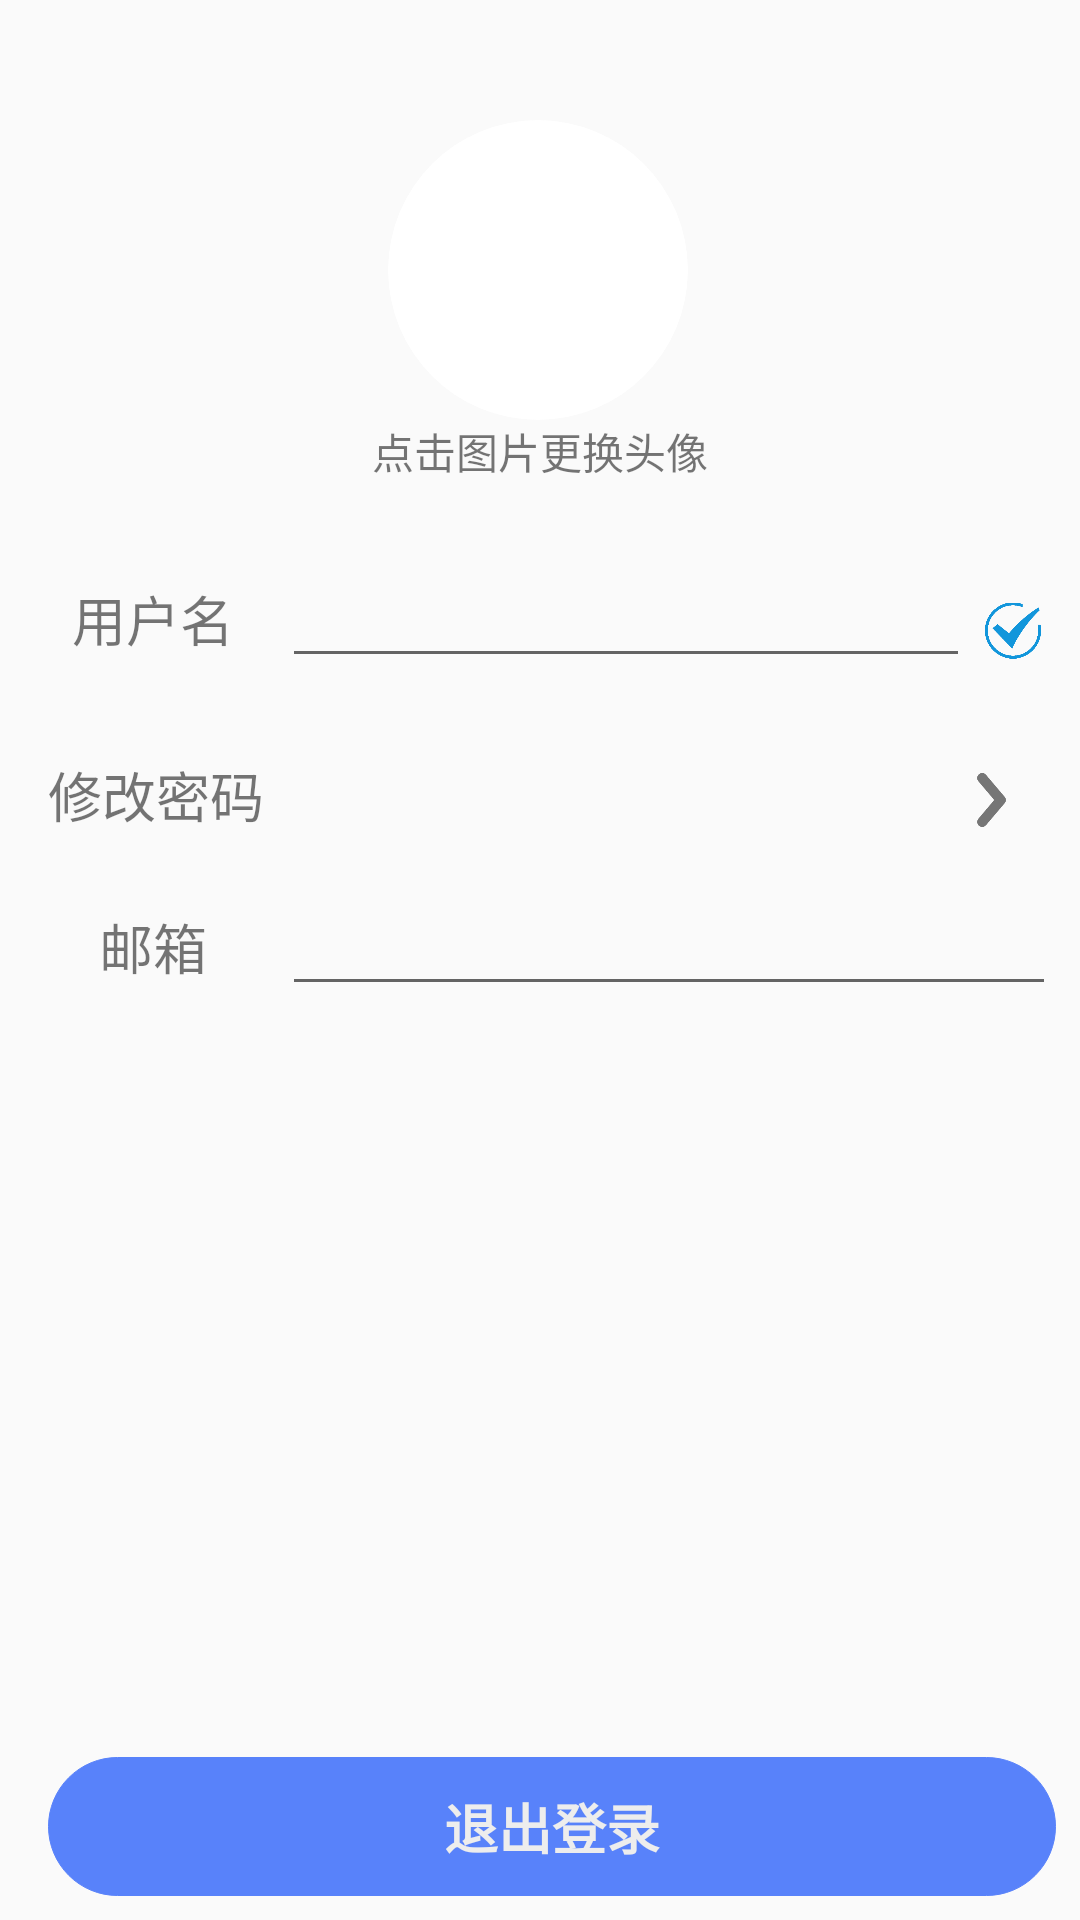

Screen size 1080px×1920px. Icon name, then its box in pixels as [x1=x1, y1=y1, x2=x2, y2=y2]:
arrow right: [x1=977, y1=773, x2=1006, y2=827]
yes: [x1=985, y1=603, x2=1041, y2=659]
